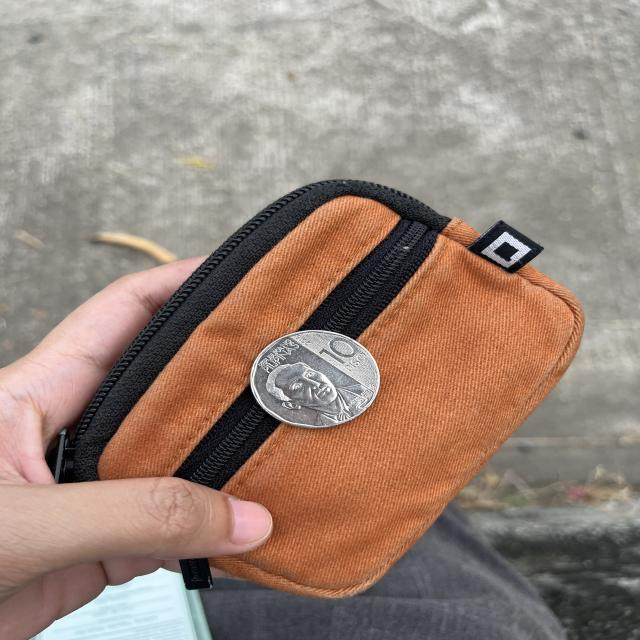10_New_Front: (312, 336, 364, 375)
